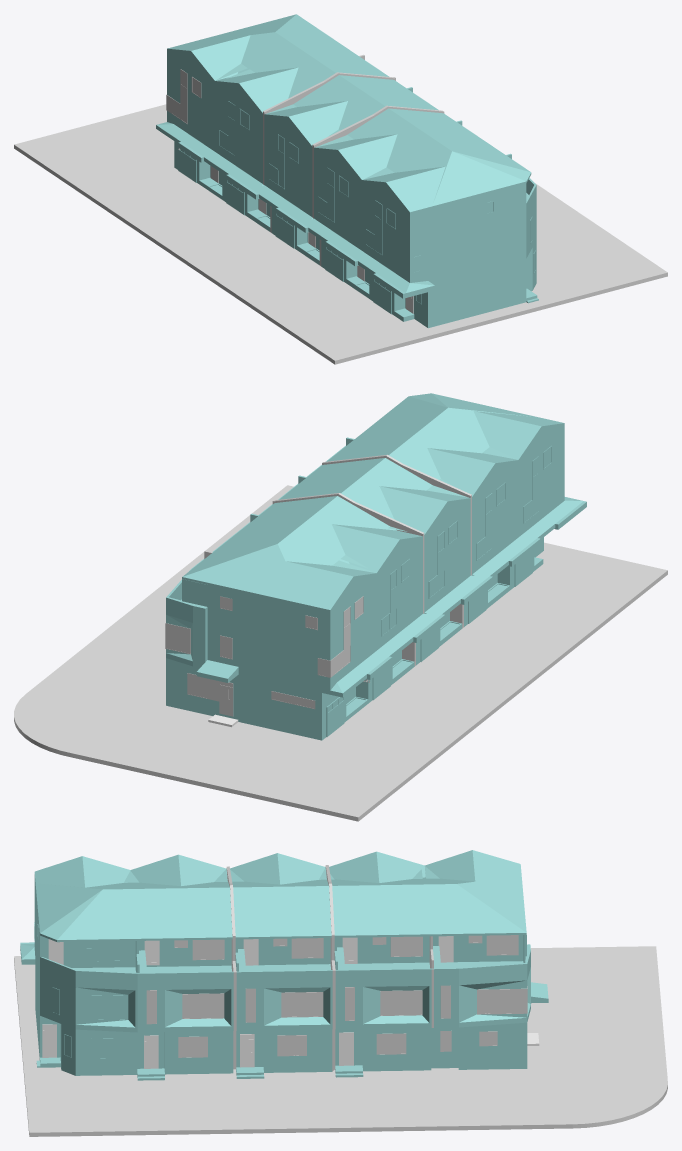
Rendered from windsor_cyan_clean.glb.
The picture shows the model from 3 angles, top to bottom: view 1: azimuth 30°, elevation 25°; view 2: azimuth 150°, elevation 25°; view 3: azimuth 270°, elevation 25°; orthographic projection. The views are drawn at different scales.
Parts seen in each view (by area): view 1: Geom3D_ (×7), Geom3D_Component#75 (×5), Geom3D_Component#79, Geom3D_Component#76; view 2: Geom3D_ (×10), Geom3D_Component#75 (×5), Geom3D_Component#76, Geom3D_Component#79; view 3: Geom3D_ (×16), Geom3D_Component#75 (×5), Geom3D_Component#76, Geom3D_Component#79.
Boxes of the visible parts, x1=… form: Geom3D_ (×7): x1=14, y1=14, x2=667, y2=364; Geom3D_Component#75 (×5): x1=167, y1=32, x2=472, y2=213; Geom3D_Component#79: x1=312, y1=105, x2=444, y2=266; Geom3D_Component#76: x1=263, y1=72, x2=395, y2=232; Geom3D_ (×10): x1=14, y1=393, x2=667, y2=821; Geom3D_Component#75 (×5): x1=259, y1=411, x2=564, y2=612; Geom3D_Component#76: x1=272, y1=493, x2=424, y2=666; Geom3D_Component#79: x1=322, y1=454, x2=471, y2=628; Geom3D_ (×16): x1=14, y1=876, x2=667, y2=1136; Geom3D_Component#75 (×5): x1=34, y1=850, x2=521, y2=902; Geom3D_Component#76: x1=325, y1=865, x2=335, y2=1071; Geom3D_Component#79: x1=226, y1=866, x2=236, y2=1069.
Size of the model in its own units: 29.42 by 11.42 by 43.57.
